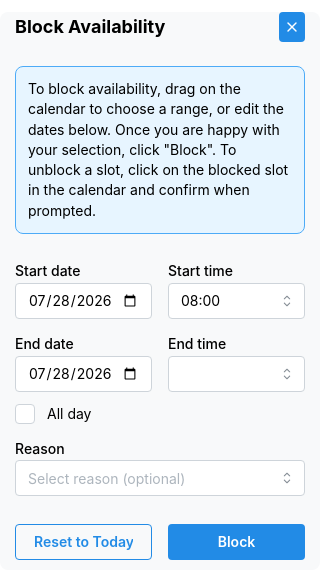
Test case: BlockPane › disables time pickers when all day is checked
Click the checkbox labelled "All day".
click(25, 414)  # box x1=15 y1=404 x2=35 y2=424
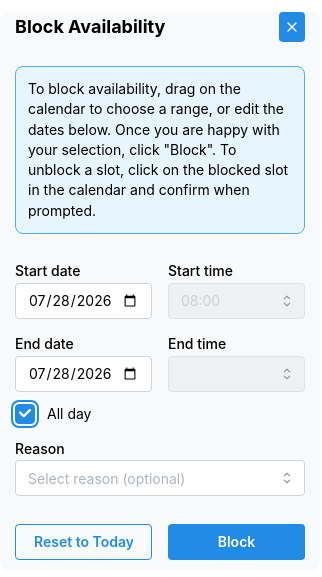
Expected: the field labelled "End time" is disabled, x1=168 y1=356 x2=305 y2=392
Expected: the field labelled "Start time" is disabled, x1=168 y1=283 x2=305 y2=319
